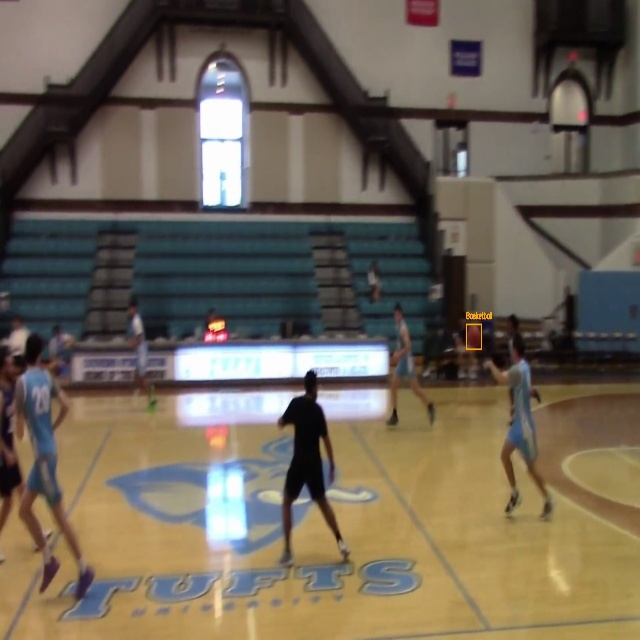Basketball: (466, 324, 482, 349)
